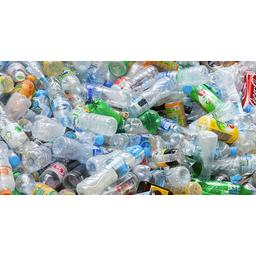plastic: (68, 106, 125, 141), (0, 137, 15, 199)
